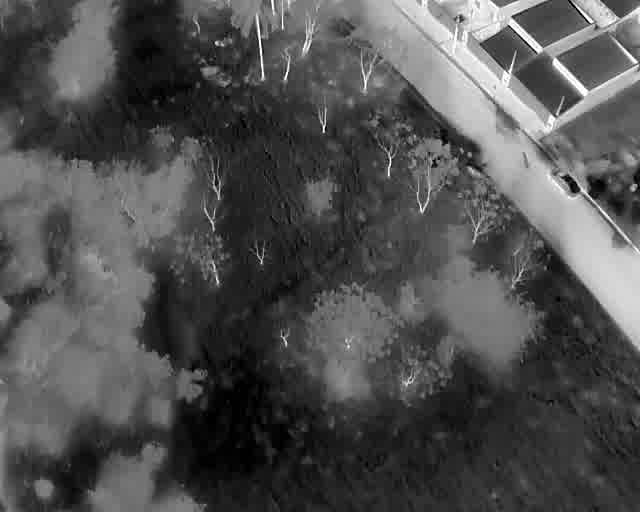car: (549, 167, 581, 198), (451, 12, 466, 25)
